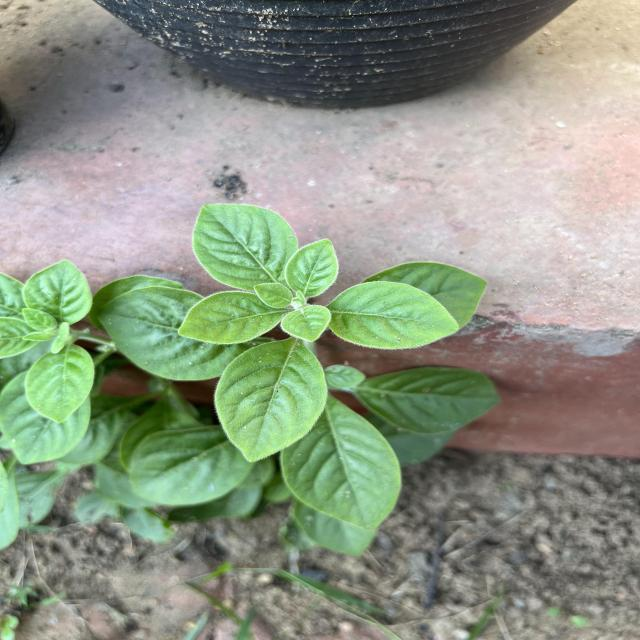Aerva lanata: (209, 336, 330, 464), (190, 202, 301, 292), (327, 280, 463, 352), (176, 289, 290, 347), (283, 236, 343, 301), (278, 302, 334, 345), (252, 280, 295, 310)
